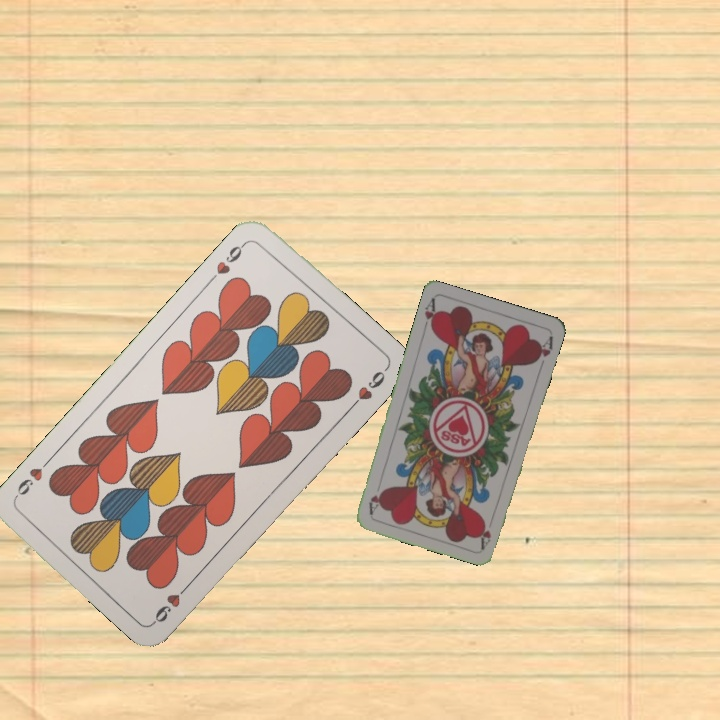H9: (205, 237, 250, 285), (149, 578, 194, 626)
HA: (419, 295, 440, 335), (477, 511, 497, 550)
